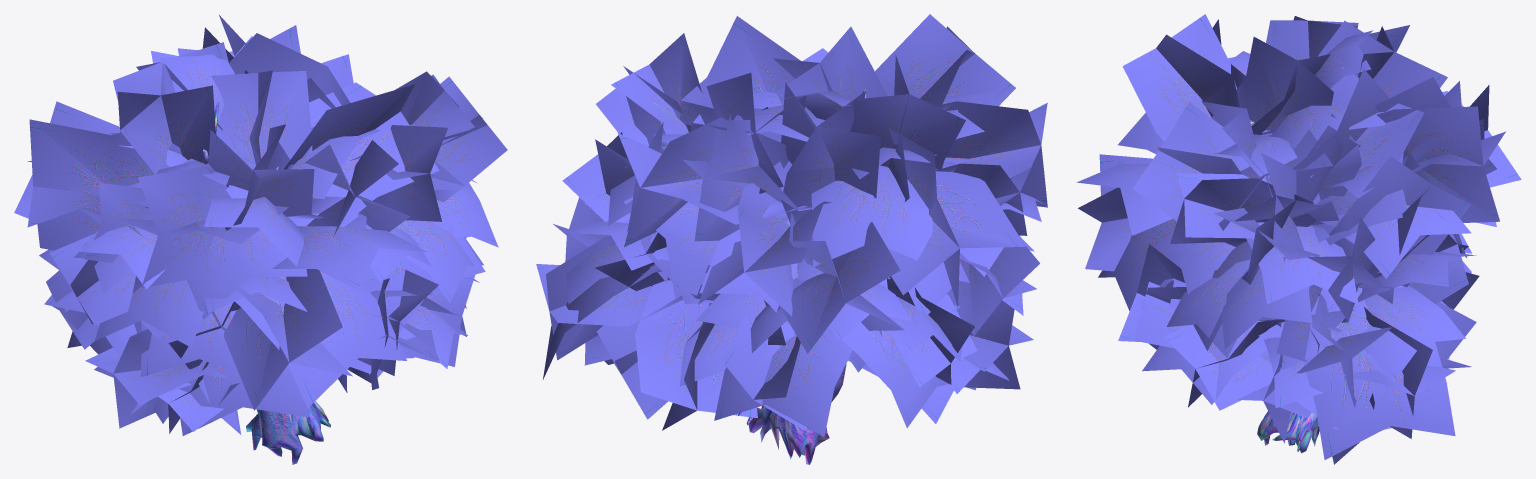
Rendered from DeadTree00.fbx.
3 views of the same model, side by side, from view 1: azimuth 30°, elevation 25°; view 2: azimuth 150°, elevation 25°; view 3: azimuth 270°, elevation 25° (orthographic). The views are drawn at different scales.
Visible parts, largest first — view 1: LeavesPlaneB036, LeavesPlaneB029, LeavesPlaneB031, LeavesPlaneB032, LeavesPlaneB033, LeavesPlaneB037, LeavesPlane057, LeavesPlaneB030, LeavesPlane049, LeavesPlaneB027, LeavesPlaneB015, LeavesPlane037 (+32 smaller); view 2: LeavesPlaneB036, LeavesPlaneB012, LeavesPlaneB042, LeavesPlaneB041, LeavesPlaneB040, LeavesPlane038, LeavesPlaneB030, LeavesPlaneB043, LeavesPlane054, LeavesPlaneB031, LeavesPlaneB037, LeavesPlaneB044 (+37 smaller); view 3: LeavesPlane058, LeavesPlaneB030, LeavesPlaneB042, LeavesPlaneB013, LeavesPlaneB017, LeavesPlaneB033, LeavesPlaneB015, LeavesPlaneB005, LeavesPlane005, LeavesPlaneB023, LeavesPlane011, LeavesPlaneB029 (+35 smaller).
Boxes of the visible parts, <box> form: LeavesPlaneB036: <box>27,119,181,250</box>; LeavesPlaneB029: <box>224,269,352,410</box>; LeavesPlaneB031: <box>114,163,288,288</box>; LeavesPlaneB032: <box>284,82,439,226</box>; LeavesPlaneB033: <box>211,70,312,165</box>; LeavesPlaneB037: <box>117,63,215,174</box>; LeavesPlane057: <box>235,271,406,408</box>; LeavesPlaneB030: <box>208,124,325,230</box>; LeavesPlane049: <box>272,226,427,290</box>; LeavesPlaneB027: <box>85,329,228,428</box>; LeavesPlaneB015: <box>349,125,464,221</box>; LeavesPlane037: <box>187,230,307,319</box>; LeavesPlaneB036: <box>888,128,1025,306</box>; LeavesPlaneB012: <box>635,280,757,430</box>; LeavesPlaneB042: <box>618,117,807,247</box>; LeavesPlaneB041: <box>776,212,904,353</box>; LeavesPlaneB040: <box>781,82,880,241</box>; LeavesPlane038: <box>811,165,932,266</box>; LeavesPlaneB030: <box>875,14,1015,108</box>; LeavesPlaneB043: <box>698,161,831,316</box>; LeavesPlane054: <box>714,327,852,436</box>; LeavesPlaneB031: <box>936,101,1047,207</box>; LeavesPlaneB037: <box>850,55,965,201</box>; LeavesPlaneB044: <box>662,120,814,241</box>; LeavesPlane058: <box>1303,285,1455,459</box>; LeavesPlaneB030: <box>1122,14,1239,141</box>; LeavesPlaneB042: <box>1377,106,1505,222</box>; LeavesPlaneB013: <box>1262,67,1424,227</box>; LeavesPlaneB017: <box>1133,102,1249,220</box>; LeavesPlaneB033: <box>1211,36,1333,134</box>; LeavesPlaneB015: <box>1170,173,1313,247</box>; LeavesPlaneB005: <box>1329,152,1471,287</box>; LeavesPlane005: <box>1361,286,1465,382</box>; LeavesPlaneB023: <box>1163,319,1284,410</box>; LeavesPlane011: <box>1246,226,1358,304</box>; LeavesPlaneB029: <box>1078,154,1152,271</box>.
Bounding box in the file's own units: 1403 × 1222 × 1243.
